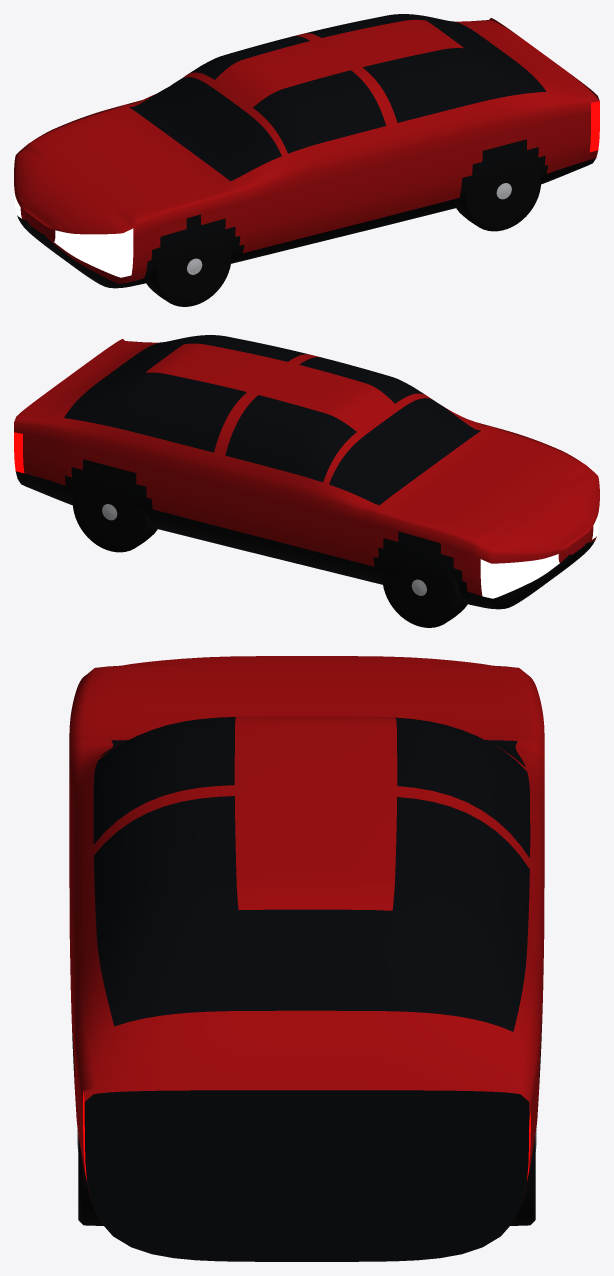
The model's file is road_car.light.glb.
3 renders of one model, top to bottom at view 1: azimuth 30°, elevation 25°; view 2: azimuth 150°, elevation 25°; view 3: azimuth 270°, elevation 25°, orthographic. The views are drawn at different scales.
Visible parts, largest first — view 1: body_car_paint__car_paint, body_car_paint__car_glass, body_car_paint__car_trim, wheel_rr_tyre, wheel_fr_tyre, body_car_paint__headlight, body_car_paint__taillight; view 2: body_car_paint__car_paint, body_car_paint__car_glass, body_car_paint__car_trim, wheel_rl_tyre, wheel_fl_tyre, body_car_paint__headlight; view 3: body_car_paint__car_paint, body_car_paint__car_glass, body_car_paint__car_trim, wheel_rl_tyre, wheel_rr_tyre.
Boxes of the visible parts, x1,y1,x2,y2 form: body_car_paint__car_paint: (14,18,599,283); body_car_paint__car_glass: (129,14,546,180); body_car_paint__car_trim: (17,139,595,288); wheel_rr_tyre: (456,165,541,231); wheel_fr_tyre: (146,249,231,306); body_car_paint__headlight: (14,186,133,277); body_car_paint__taillight: (589,101,599,152); body_car_paint__car_paint: (14,339,599,595); body_car_paint__car_glass: (64,335,480,505); body_car_paint__car_trim: (15,459,594,609); wheel_rl_tyre: (72,486,157,552); wheel_fl_tyre: (382,570,467,627); body_car_paint__headlight: (480,501,599,598); body_car_paint__car_paint: (69,656,544,1186); body_car_paint__car_glass: (93,717,530,1031); body_car_paint__car_trim: (72,1021,541,1261); wheel_rl_tyre: (510,1135,535,1225); wheel_rr_tyre: (78,1135,103,1225).
Size of the model in its own units: 4.6 by 1.39 by 1.86.
